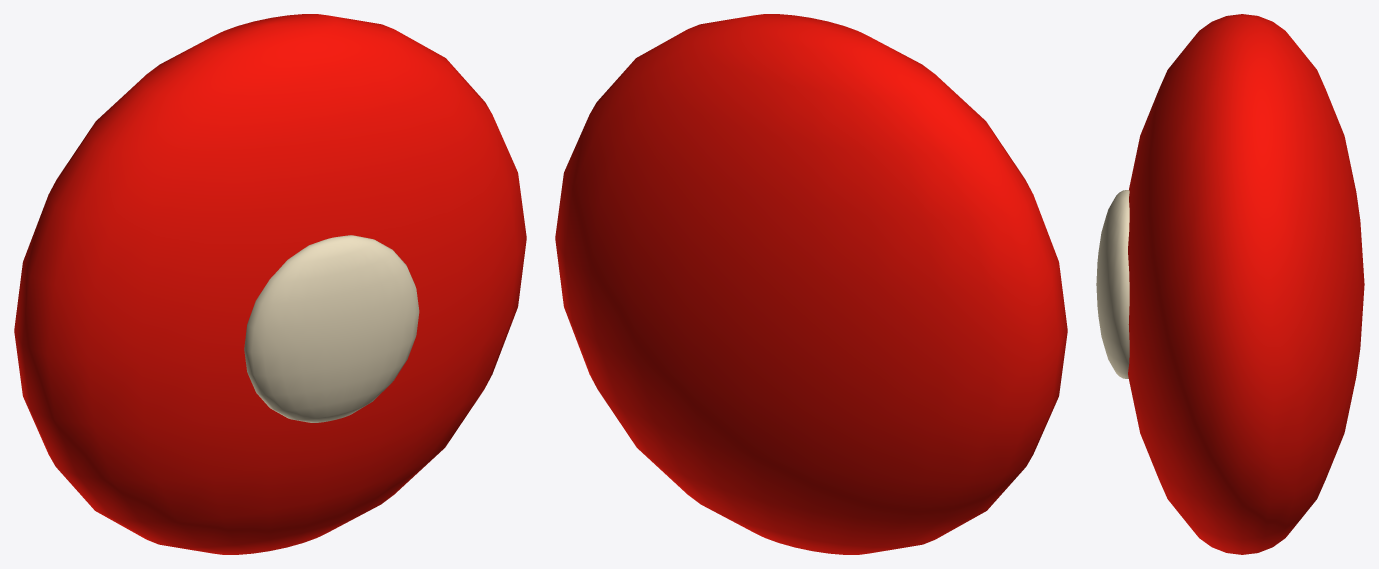
Rendered from FearWormEye.obj.
3 renders of one model, left to right at view 1: azimuth 30°, elevation 25°; view 2: azimuth 150°, elevation 25°; view 3: azimuth 270°, elevation 25°, orthographic. The views are drawn at different scales.
Visible parts, largest first — view 1: Red_eye; view 2: Red_eye; view 3: Red_eye.
Boxes of the visible parts, x1,y1,x2,y2 form: Red_eye: [14, 14, 526, 554]; Red_eye: [555, 14, 1067, 554]; Red_eye: [1096, 14, 1364, 554].
Bounding box in the file's own units: 0.8 × 0.8 × 0.395.
1 material, 1 textured.
